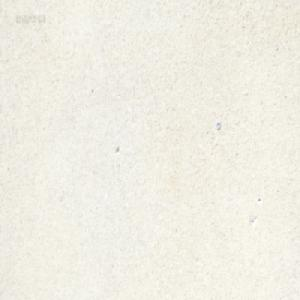Washer: (215, 120, 220, 130)
